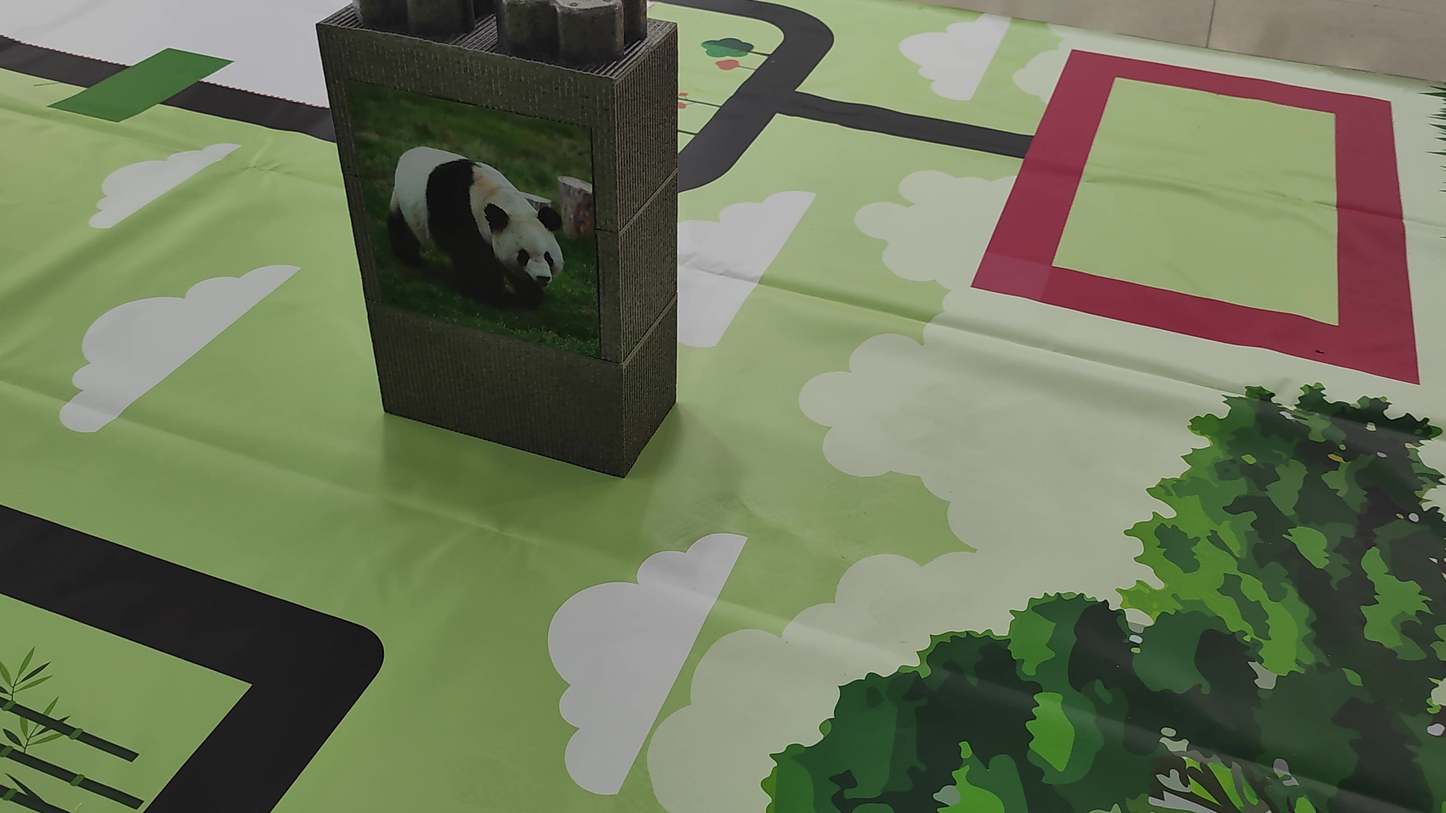panda: (369, 112, 587, 312)
